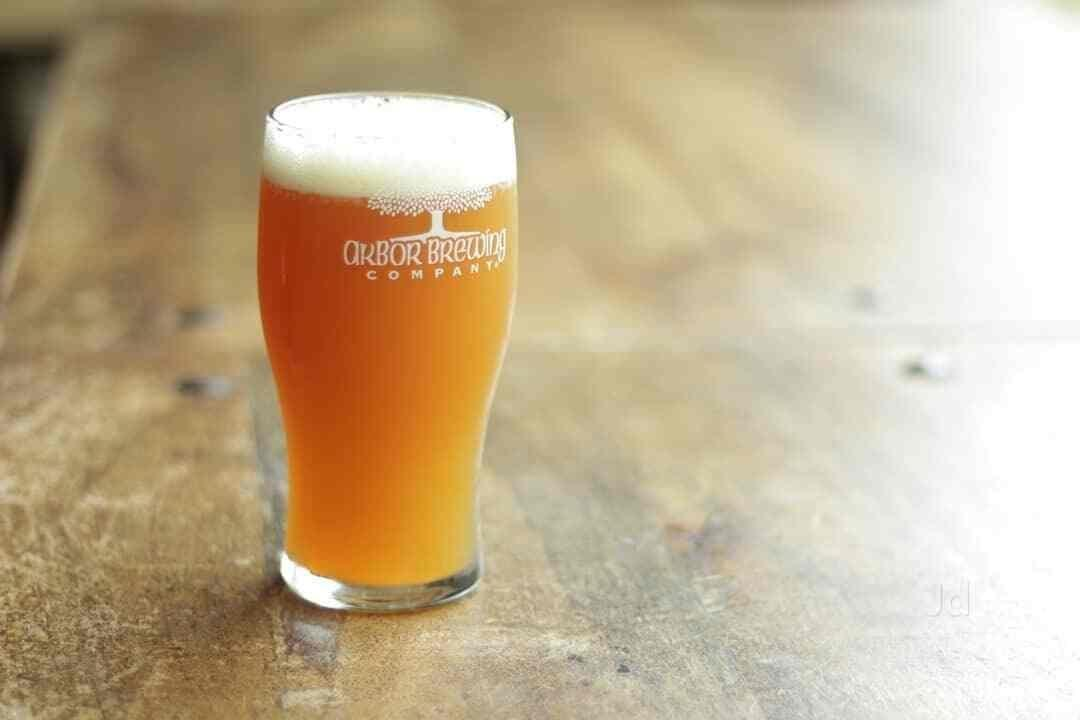glass-normal: (254, 86, 521, 614)
